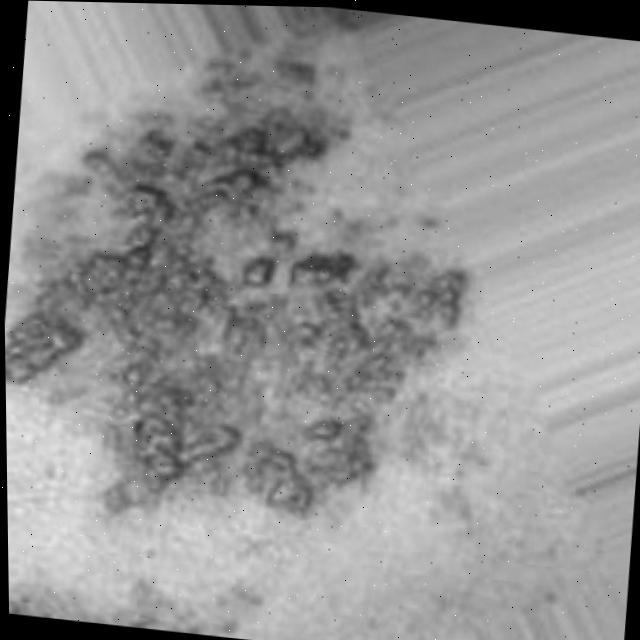Shingles: (6, 84, 488, 536), (9, 591, 231, 637)
